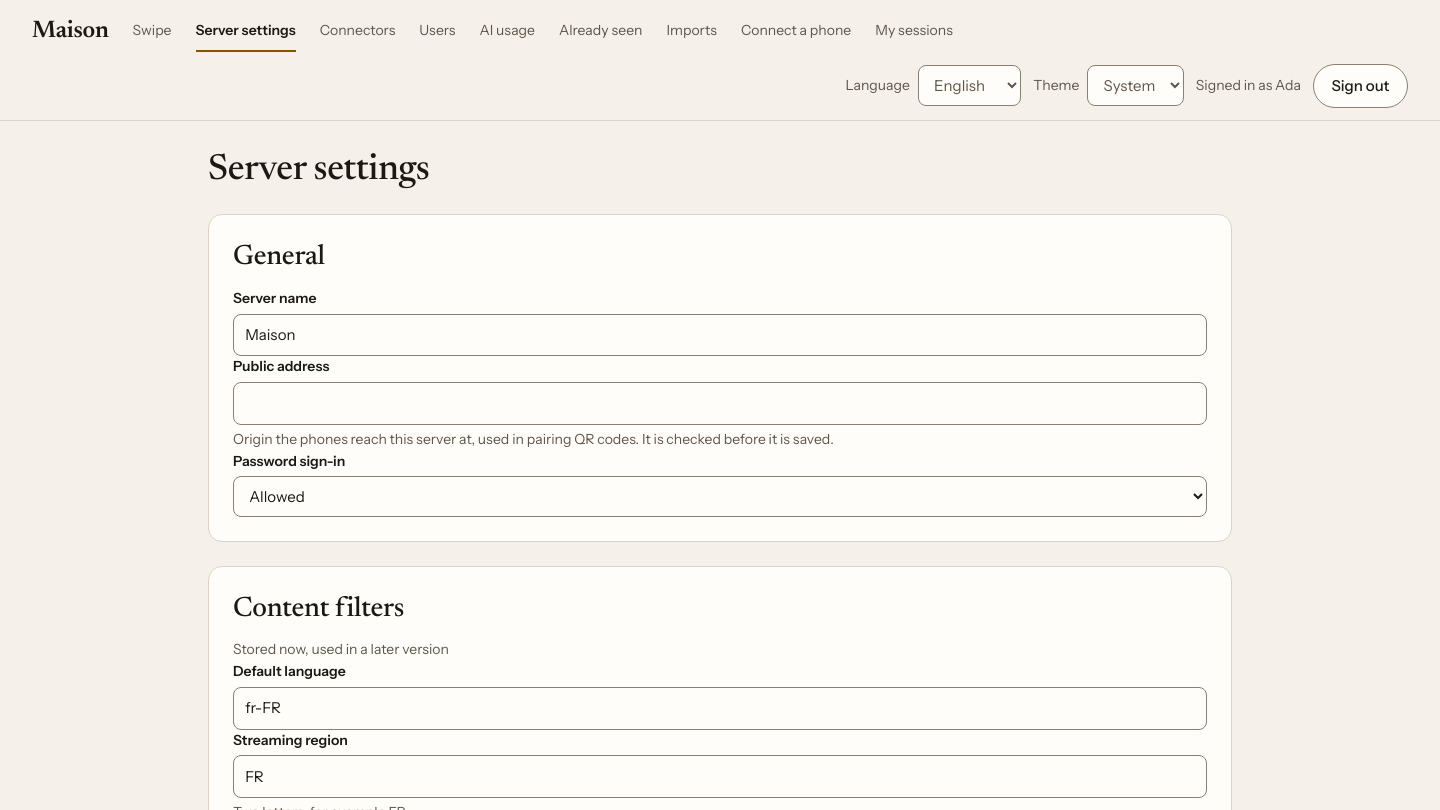
Test: the server settings › says why an unverified public address was refused
Step 1. Type "https://elsewhere.example" into the field labelled "Public address" → (720, 404), box [233, 382, 1207, 425]
(page scrolled)
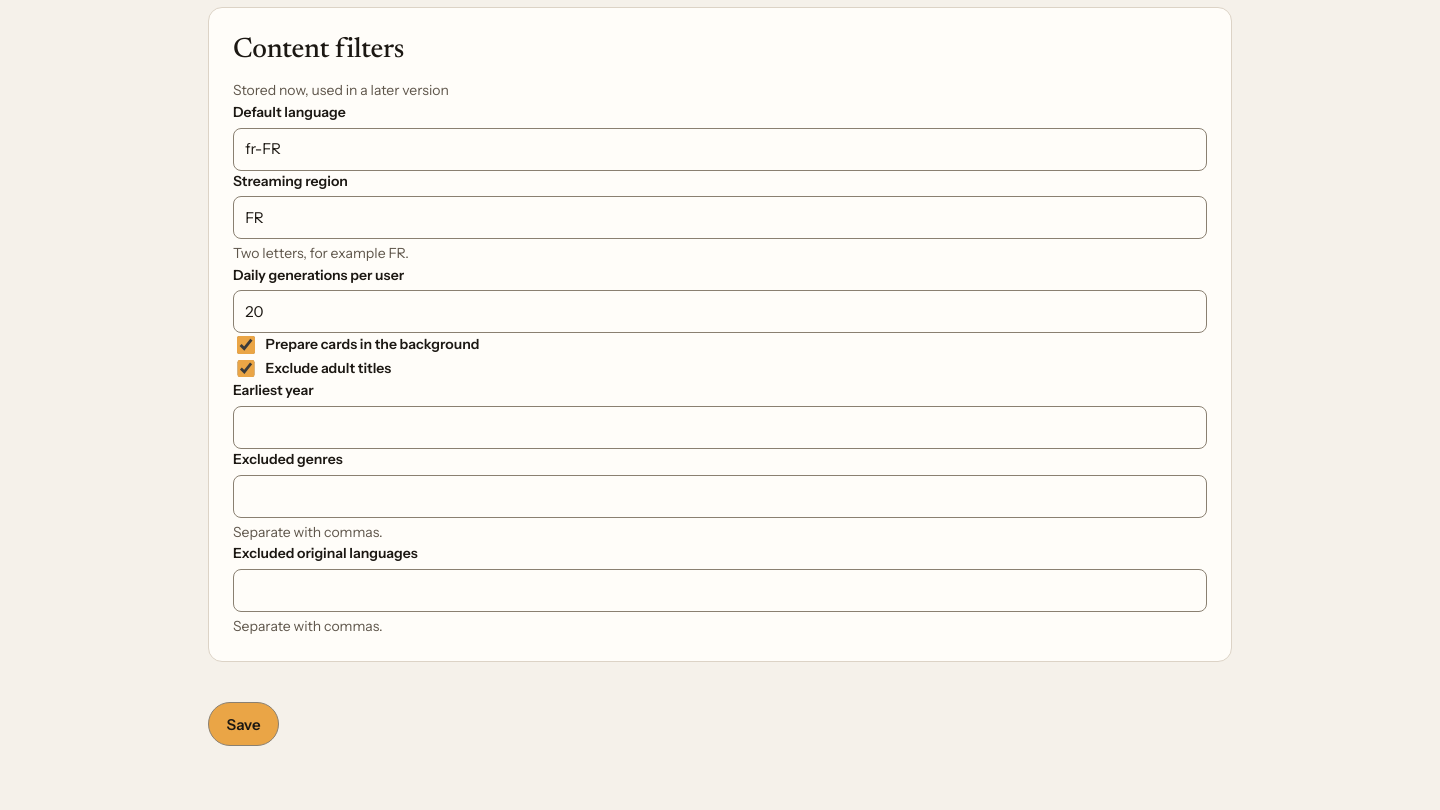
Step 2. Click the button "Save" → click(244, 724), box [208, 702, 279, 746]
(page scrolled)
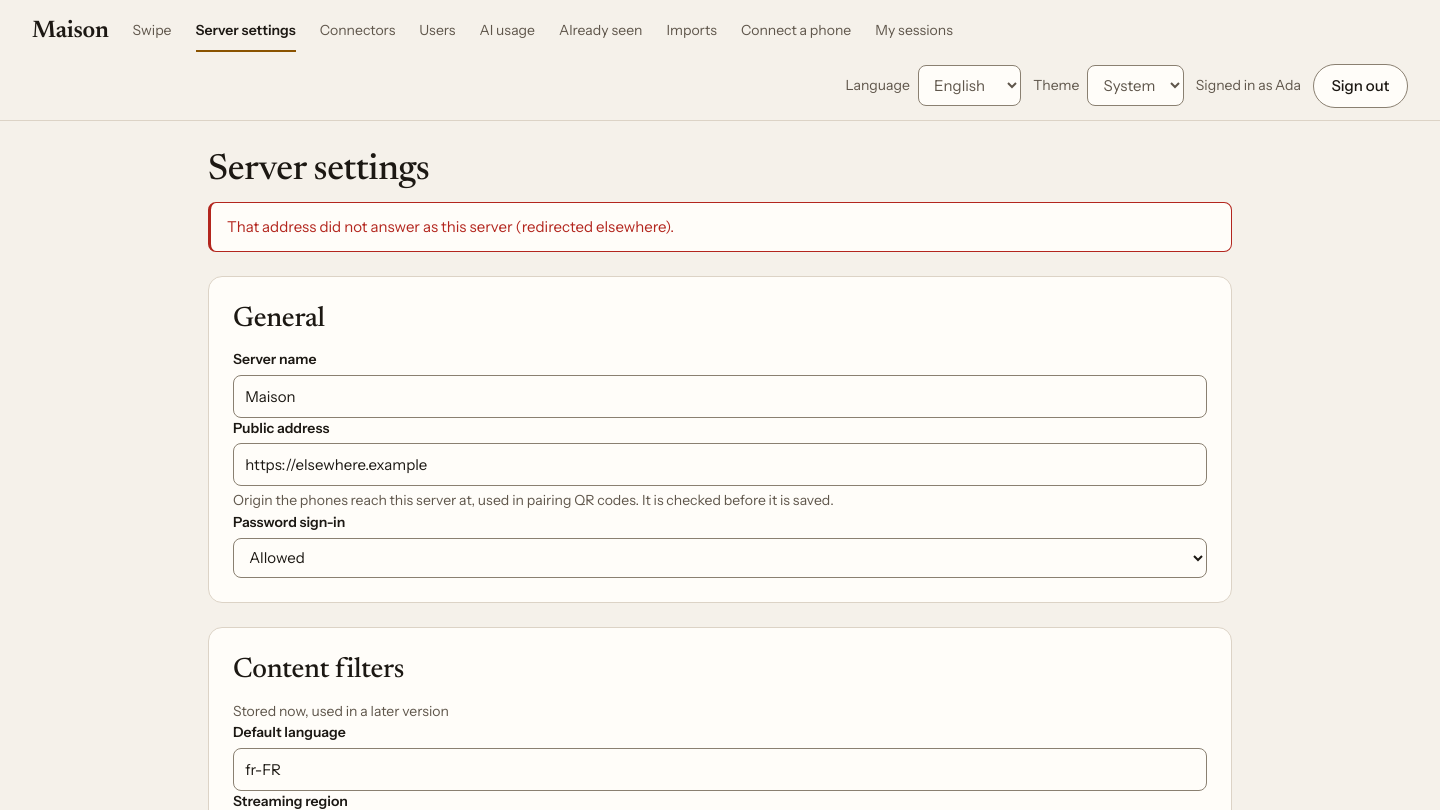
Expected: the message reads "That address did not answer as this server (redirected elsewhere).", [227, 218, 674, 236]
